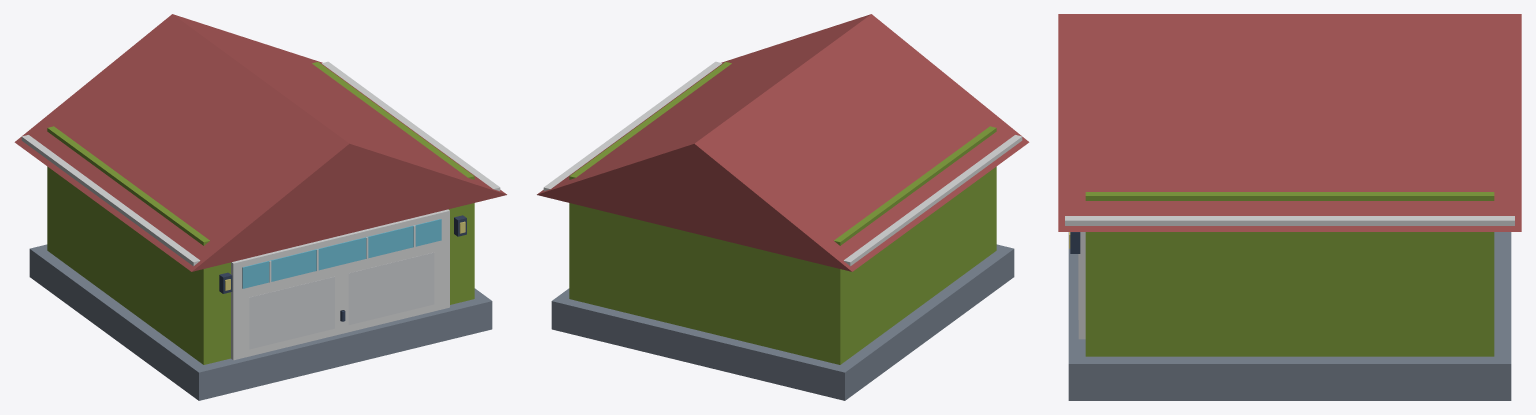
Rendered from craftsman-house-garage.glb.
3 renders of one model, left to right at view 1: azimuth 30°, elevation 25°; view 2: azimuth 150°, elevation 25°; view 3: azimuth 270°, elevation 25°, orthographic. The views are drawn at different scales.
Parts seen in each view (by area): view 1: Root; view 2: Root; view 3: Root.
Part boxes in pixels (x1,y1,x2,y2): Root: (14, 14, 506, 400); Root: (537, 14, 1029, 400); Root: (1058, 14, 1521, 400).
Size of the model in its own units: 7 by 4.75 by 6.8.
